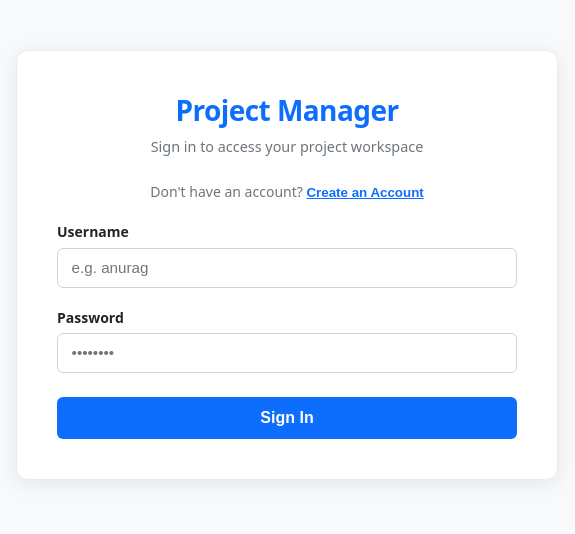
Test: LoginPage Component › displays error message when login fails
Type "wronguser" into the field labelled "Username" at (287,268), box [57,248,517,288]
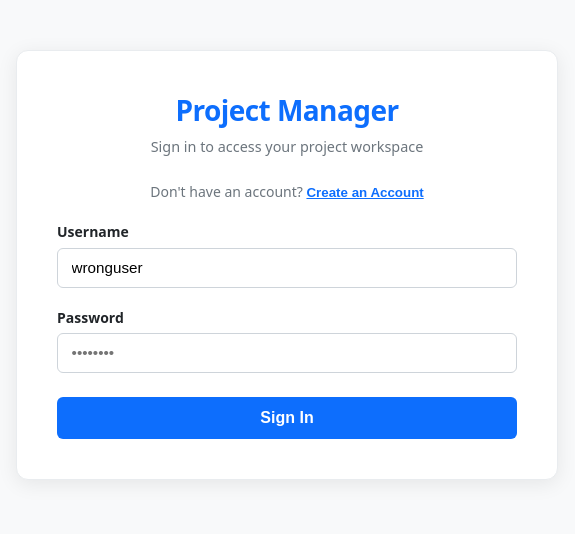
Type "badpass" into the password field labelled "Password" at (287,353), box [57,333,517,373]
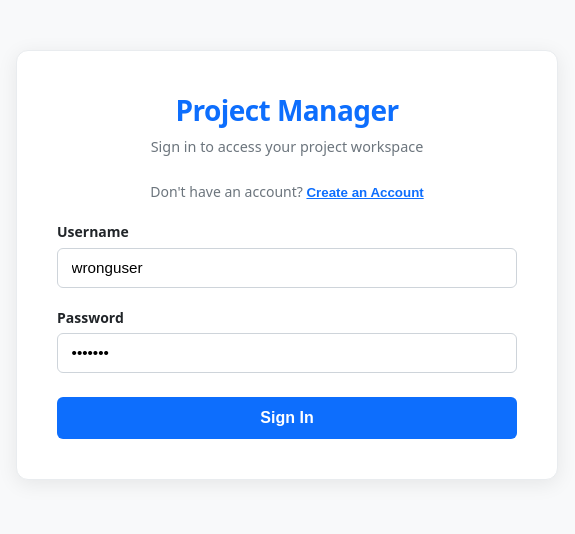
Click the button "Sign In" at (287,418), box [57,397,517,439]
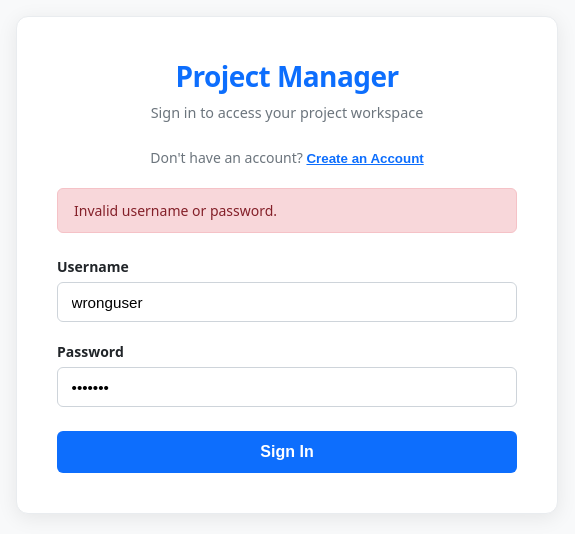
Now the message shows "Invalid username or password", box [74,201,277,220]
